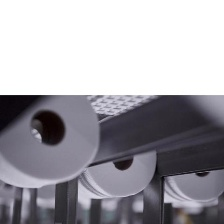tissue: (0, 95, 105, 193), (75, 146, 161, 204), (148, 164, 223, 208)
